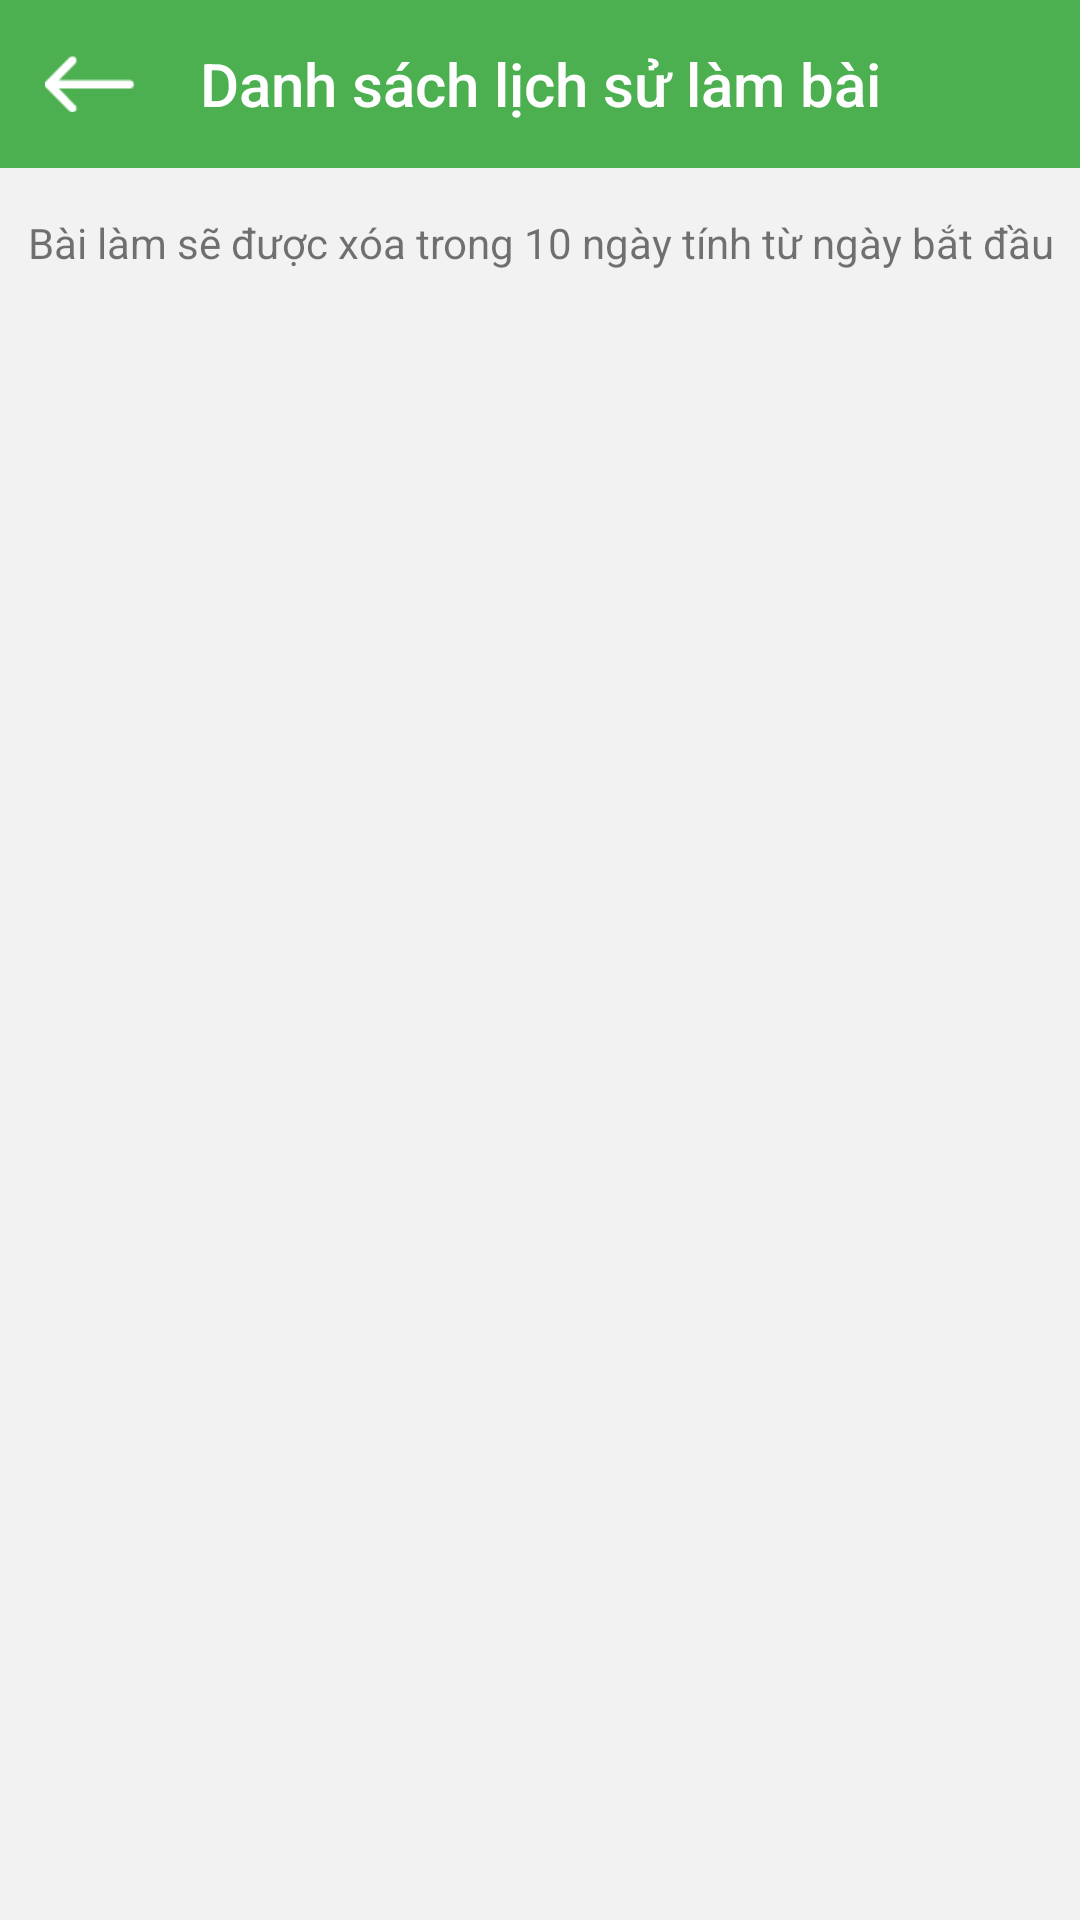

Icons on this 1080 x 1920 Android screen, each with its box as bbox=[x1, y1, x2, y2]:
back: bbox=[45, 56, 135, 112]
